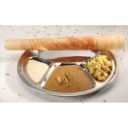dosa: (2, 32, 128, 54)
